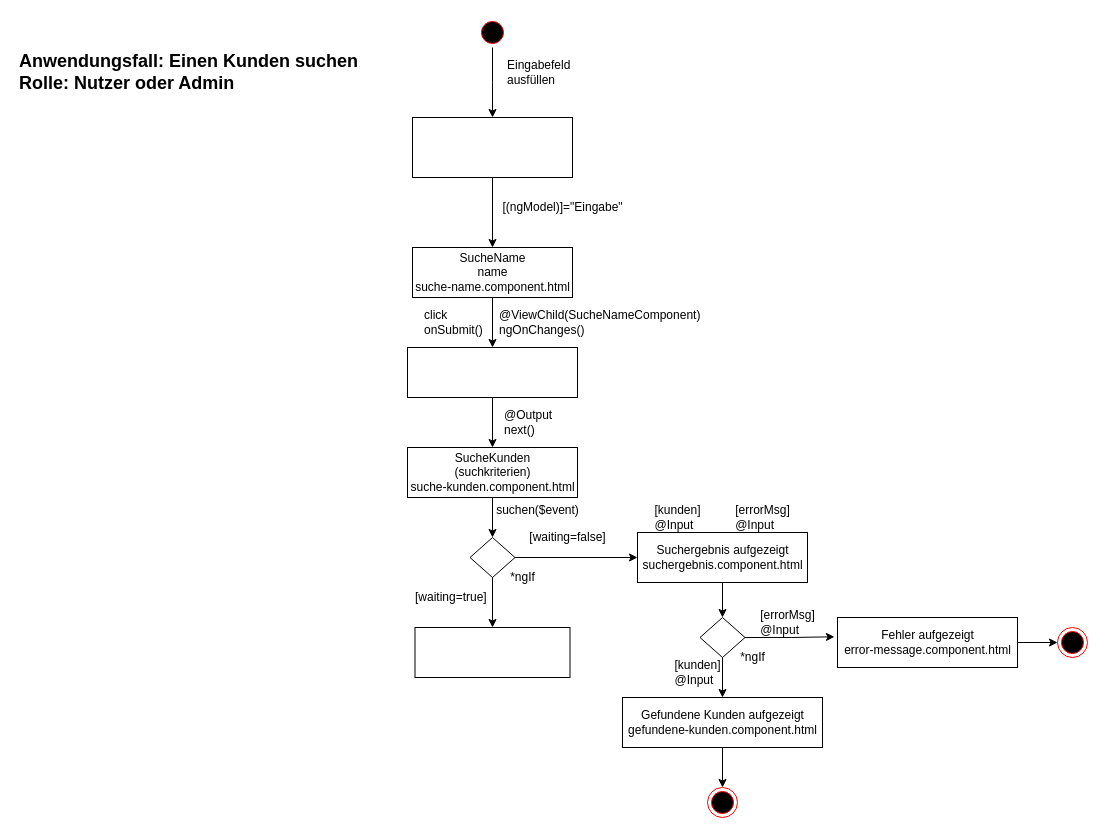
The diagram is 1105 pixels wide and 835 high, and some of its shapes have lost their labels. The centre of each missing label's shape, as x and y in pixels:
"suche-name.component.html" goes at [492,147].
"Suchformular suchkriterien suchformular.component.html" goes at [492,372].
"Warten aufgezeigt waiting.component.html" goes at [492,652].
